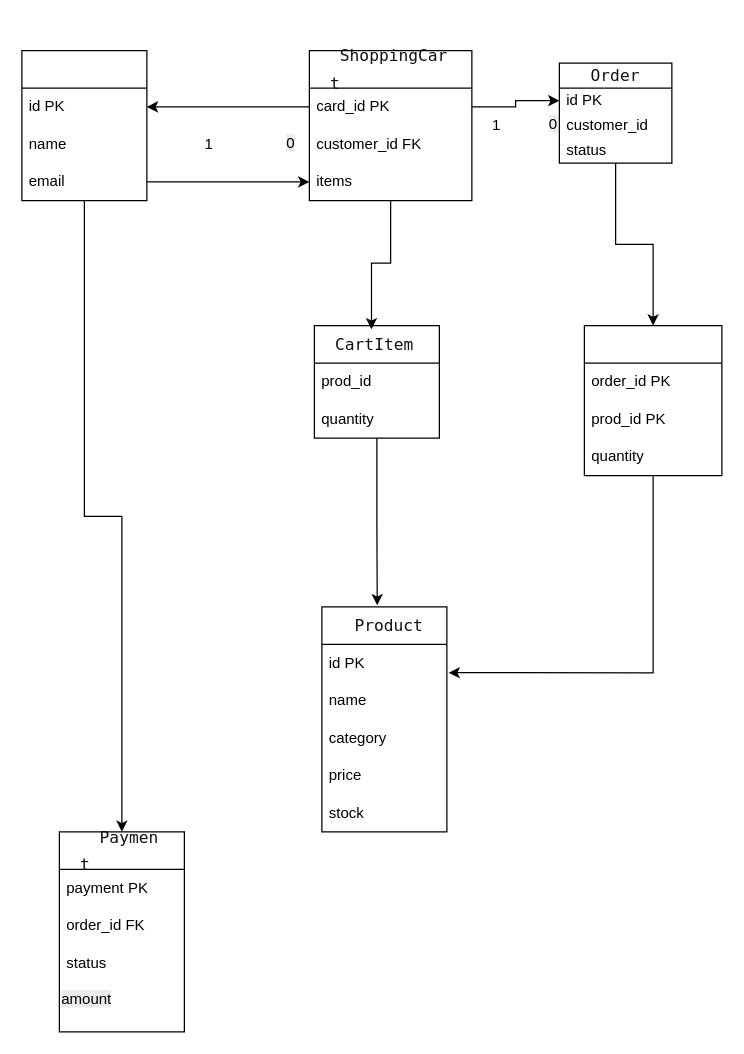
This 744x1054 diagram has some shape labels left out. Here are the shapes that lost their labels. From the top down, the box of each, then its label:
(21, 49, 147, 201): Customer
(583, 324, 722, 476): OrderItem
